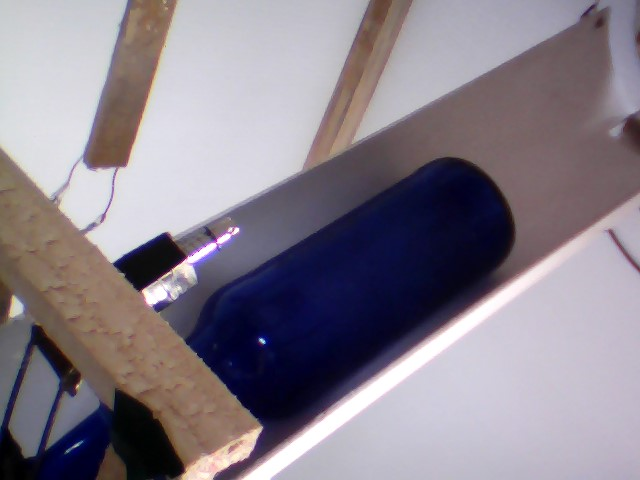vidrio: (175, 151, 520, 427)
